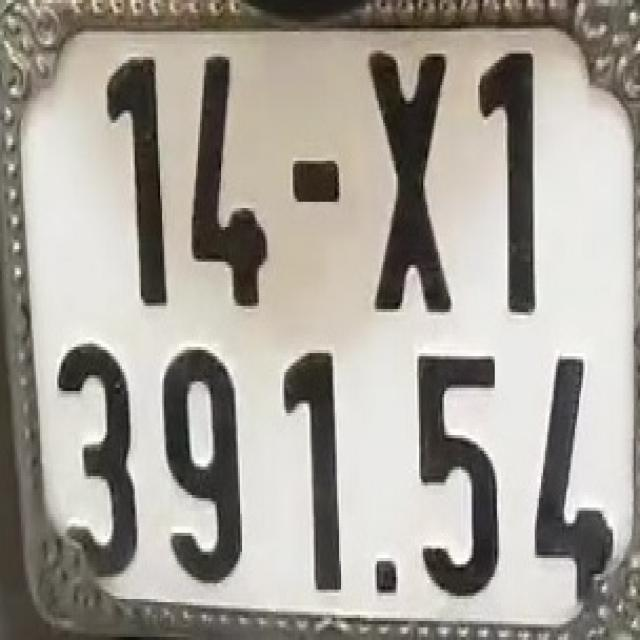1: (92, 44, 182, 312), (472, 40, 554, 318), (276, 340, 358, 600)
3: (48, 331, 146, 580)
4: (184, 41, 278, 316), (524, 343, 619, 602)
5: (404, 338, 508, 602)
9: (154, 334, 252, 593)
X: (362, 44, 459, 312)
